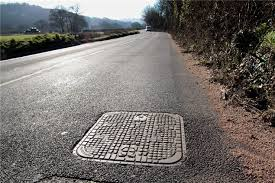Manhole-Closed: (73, 94, 204, 173)
